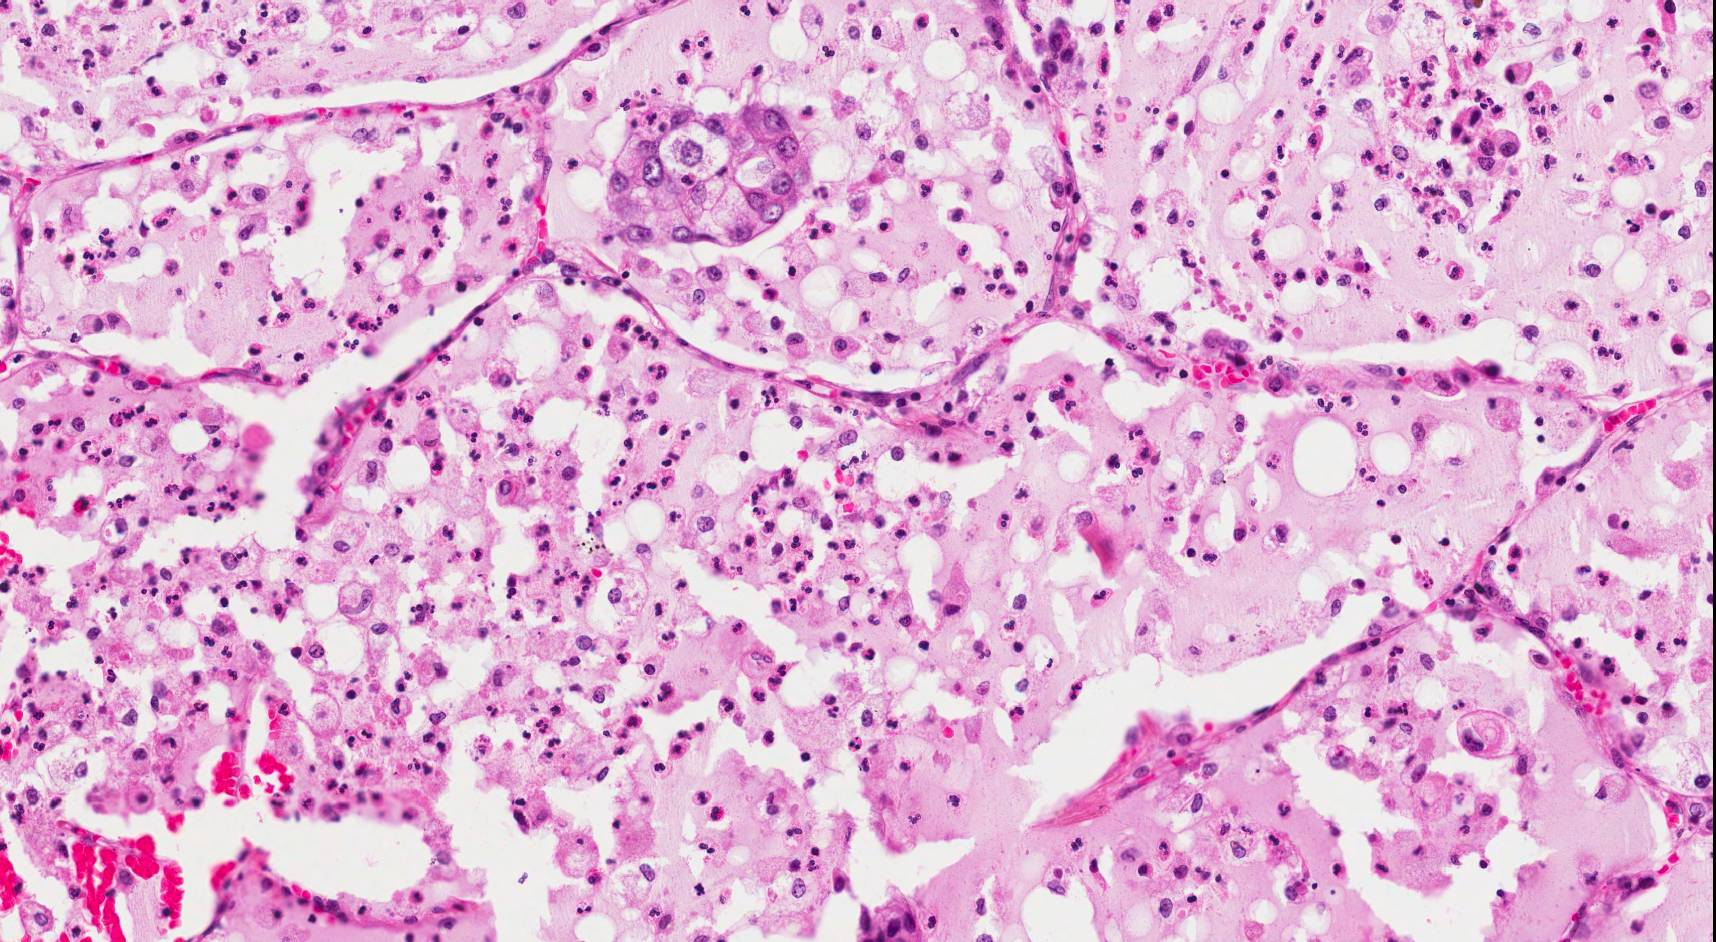stas: (602, 101, 813, 247)
